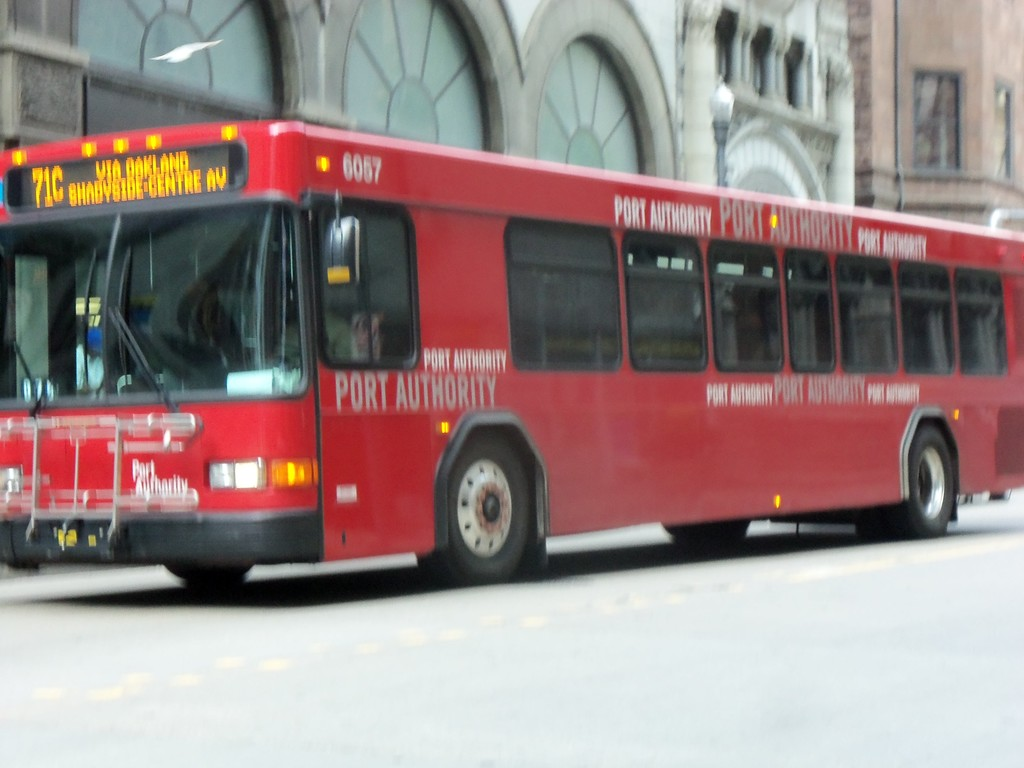Bus: (0, 119, 1023, 584)
